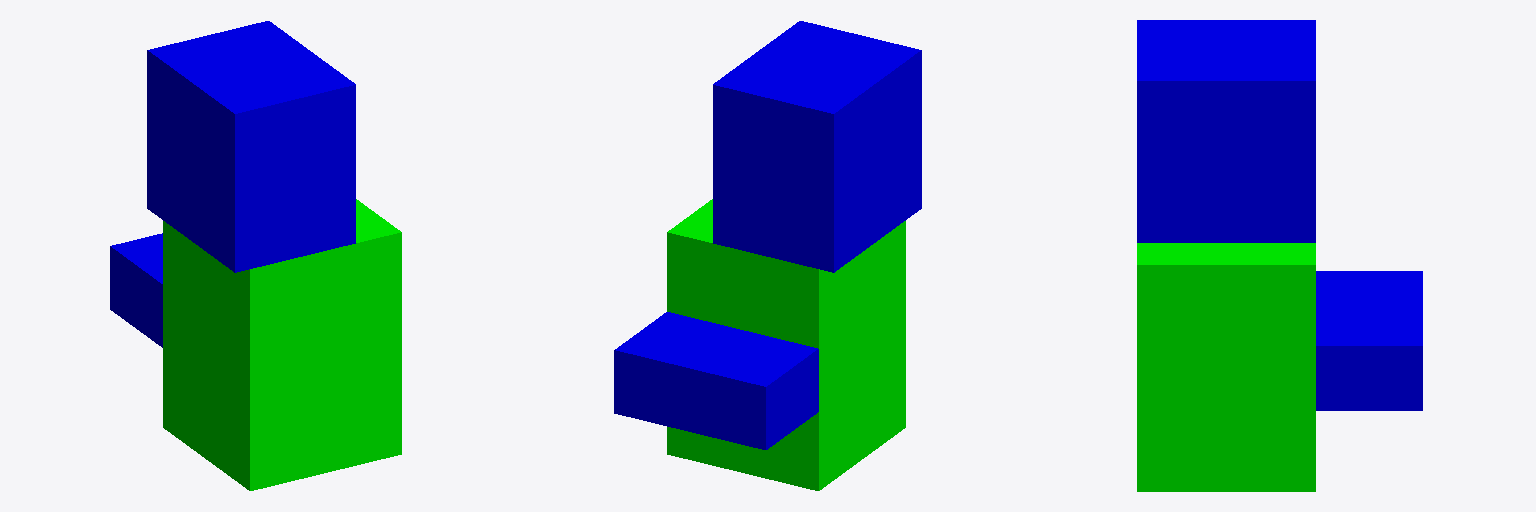
robot.urdf — robot:
<robot name = "robot">
    <link name="root">
        <inertial>
            <origin xyz="0.0 0.0 1.5" rpy="0 0 0"/>
            <mass value="1" />
            <inertia ixx="100" ixy="0" ixz="0" iyy="100" iyz="0" izz="100" />
        </inertial>
        <visual>
            <origin xyz="0.0 0.0 1.5" rpy="0 0 0"/>
            <geometry>
                <box size="0 0 0.0001" />
            </geometry>
            <material name="Green">
                <color rgba="0 1.0 0.0 1.0"/>
            </material>
        </visual>
        <collision>
            <origin xyz="0.0 0.0 1.5" rpy="0 0 0"/>
            <geometry>
                <box size="0 0 0.0001" />
            </geometry>
        </collision>
    </link>
    <joint name="root_000" type="revolute">
       <parent link="root"/>
       <child  link="000"/>
       <origin rpy="0 0 0" xyz="0.0 0.0 1.5" />
     <axis xyz="1 0 0"/>
       <limit effort="0.0" lower="-3.14159" upper="3.14159" velocity="0.0"/>
    </joint>
    <link name="000">
        <inertial>
            <origin xyz="0.1 0.0 0.0" rpy="0 0 0"/>
            <mass value="1" />
            <inertia ixx="100" ixy="0" ixz="0" iyy="100" iyz="0" izz="100" />
        </inertial>
        <visual>
            <origin xyz="0.1 0.0 0.0" rpy="0 0 0"/>
            <geometry>
                <box size="0.2 0.5 0.5" />
            </geometry>
            <material name="Blue">
                <color rgba="0 0.0 1.0 1.0"/>
            </material>
        </visual>
        <collision>
            <origin xyz="0.1 0.0 0.0" rpy="0 0 0"/>
            <geometry>
                <box size="0.2 0.5 0.5" />
            </geometry>
        </collision>
    </link>
    <joint name="000_010" type="revolute">
       <parent link="000"/>
       <child  link="010"/>
       <origin rpy="0 0 0" xyz="0.2 0.0 -0.0" />
     <axis xyz="1 0 0"/>
       <limit effort="0.0" lower="-3.14159" upper="3.14159" velocity="0.0"/>
    </joint>
    <link name="010">
        <inertial>
            <origin xyz="0.1 0.0 -0.0" rpy="0 0 0"/>
            <mass value="1" />
            <inertia ixx="100" ixy="0" ixz="0" iyy="100" iyz="0" izz="100" />
        </inertial>
        <visual>
            <origin xyz="0.1 0.0 -0.0" rpy="0 0 0"/>
            <geometry>
                <box size="0.2 0.5 0.5" />
            </geometry>
            <material name="Blue">
                <color rgba="0 0.0 1.0 1.0"/>
            </material>
        </visual>
        <collision>
            <origin xyz="0.1 0.0 -0.0" rpy="0 0 0"/>
            <geometry>
                <box size="0.2 0.5 0.5" />
            </geometry>
        </collision>
    </link>
    <joint name="010_010-100" type="revolute">
       <parent link="010"/>
       <child  link="010-100"/>
       <origin rpy="0 0 0" xyz="0.1 0.0 -0.25" />
     <axis xyz="0 0 1"/>
       <limit effort="0.0" lower="-3.14159" upper="3.14159" velocity="0.0"/>
    </joint>
    <link name="010-100">
        <inertial>
            <origin xyz="0.0 0.0 -0.35" rpy="0 0 0"/>
            <mass value="1" />
            <inertia ixx="100" ixy="0" ixz="0" iyy="100" iyz="0" izz="100" />
        </inertial>
        <visual>
            <origin xyz="0.0 0.0 -0.35" rpy="0 0 0"/>
            <geometry>
                <box size="0.5 0.5 0.7" />
            </geometry>
            <material name="Green">
                <color rgba="0 1.0 0.0 1.0"/>
            </material>
        </visual>
        <collision>
            <origin xyz="0.0 0.0 -0.35" rpy="0 0 0"/>
            <geometry>
                <box size="0.5 0.5 0.7" />
            </geometry>
        </collision>
    </link>
    <joint name="010-100_010-100-200" type="revolute">
       <parent link="010-100"/>
       <child  link="010-100-200"/>
       <origin rpy="0 0 0" xyz="0.0 0.25 -0.35" />
     <axis xyz="0 1 0"/>
       <limit effort="0.0" lower="-3.14159" upper="3.14159" velocity="0.0"/>
    </joint>
    <link name="010-100-200">
        <inertial>
            <origin xyz="0.0 0.15 -0.0" rpy="0 0 0"/>
            <mass value="1" />
            <inertia ixx="100" ixy="0" ixz="0" iyy="100" iyz="0" izz="100" />
        </inertial>
        <visual>
            <origin xyz="0.0 0.15 -0.0" rpy="0 0 0"/>
            <geometry>
                <box size="0.5 0.3 0.2" />
            </geometry>
            <material name="Blue">
                <color rgba="0 0.0 1.0 1.0"/>
            </material>
        </visual>
        <collision>
            <origin xyz="0.0 0.15 -0.0" rpy="0 0 0"/>
            <geometry>
                <box size="0.5 0.3 0.2" />
            </geometry>
        </collision>
    </link>
</robot>

--- Facts derived from the render (not from the file) ---
Views: 3 orthographic renders of the robot side by side, from view 1: azimuth 30°, elevation 25°; view 2: azimuth 150°, elevation 25°; view 3: azimuth 270°, elevation 25°.
Robot: robot — 5 links, 4 joints (4 revolute); root link root; default pose: all joints at 0.
Links seen in each view (by area): view 1: 010-100, 000, 010, [phone redacted]; view 2: 010-100, 000, [phone redacted], 010; view 3: 010-100, 010, [phone redacted], 000.
Link boxes in pixels (box(x1,y1,x2,y2)): 010-100: box(163, 199, 401, 490); 000: box(147, 35, 295, 272); 010: box(208, 21, 355, 257); [phone redacted]: box(110, 233, 162, 347); 010-100: box(667, 199, 905, 490); 000: box(773, 35, 921, 272); [phone redacted]: box(614, 312, 818, 449); 010: box(713, 21, 860, 257); 010-100: box(1137, 243, 1315, 491); 010: box(1137, 51, 1315, 242); [phone redacted]: box(1316, 271, 1422, 410); 000: box(1137, 20, 1315, 50).
Size in the robot's own frame: 0.55 by 0.8 by 1.2 metres.
Geometry: primitives only (box / cylinder / sphere), no mesh files.
